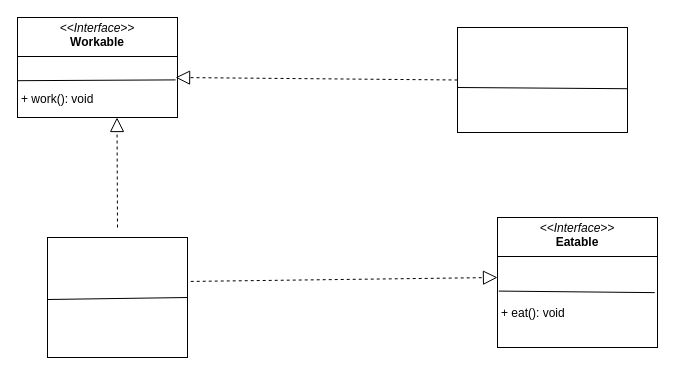
Some shapes in this 676 by 375 pixel diagram are drawn without their labels. Each missing label, with the box of its shape:
HumanWorker + work(): void + eat(): void: (46, 236, 188, 358)
RobotWorker + work(): void: (456, 26, 628, 132)
